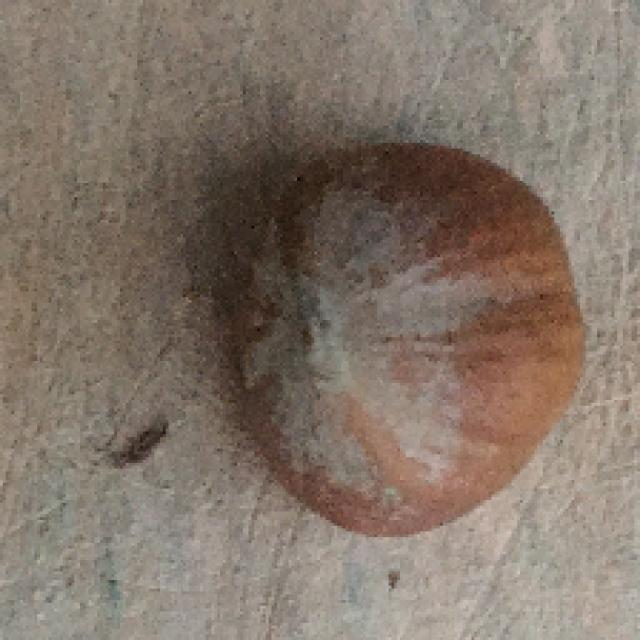qualityHazelnut: (218, 143, 593, 534)
